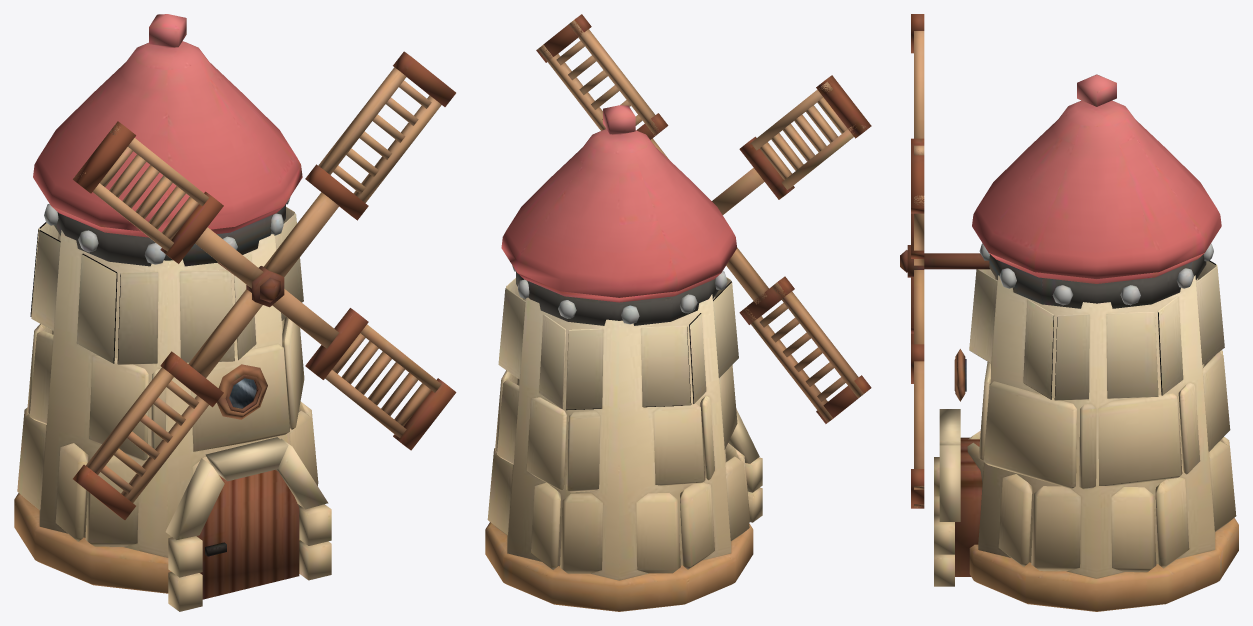
File: mill_4_low.glb
The picture shows the model from 3 angles, left to right: view 1: azimuth 30°, elevation 25°; view 2: azimuth 150°, elevation 25°; view 3: azimuth 270°, elevation 25°; orthographic projection. The views are drawn at different scales.
Visible parts, largest first — view 1: mill_4, sails; view 2: mill_4, sails; view 3: mill_4, sails.
Boxes of the visible parts, bbox=[...] form: mill_4: bbox=[14, 14, 331, 611]; sails: bbox=[73, 51, 456, 519]; mill_4: bbox=[485, 105, 762, 611]; sails: bbox=[536, 14, 871, 423]; mill_4: bbox=[924, 74, 1238, 611]; sails: bbox=[900, 14, 924, 508].
Bounding box in the file's own units: 1.55 × 2.04 × 1.31.
Materials: 1 (1 with a texture image).
